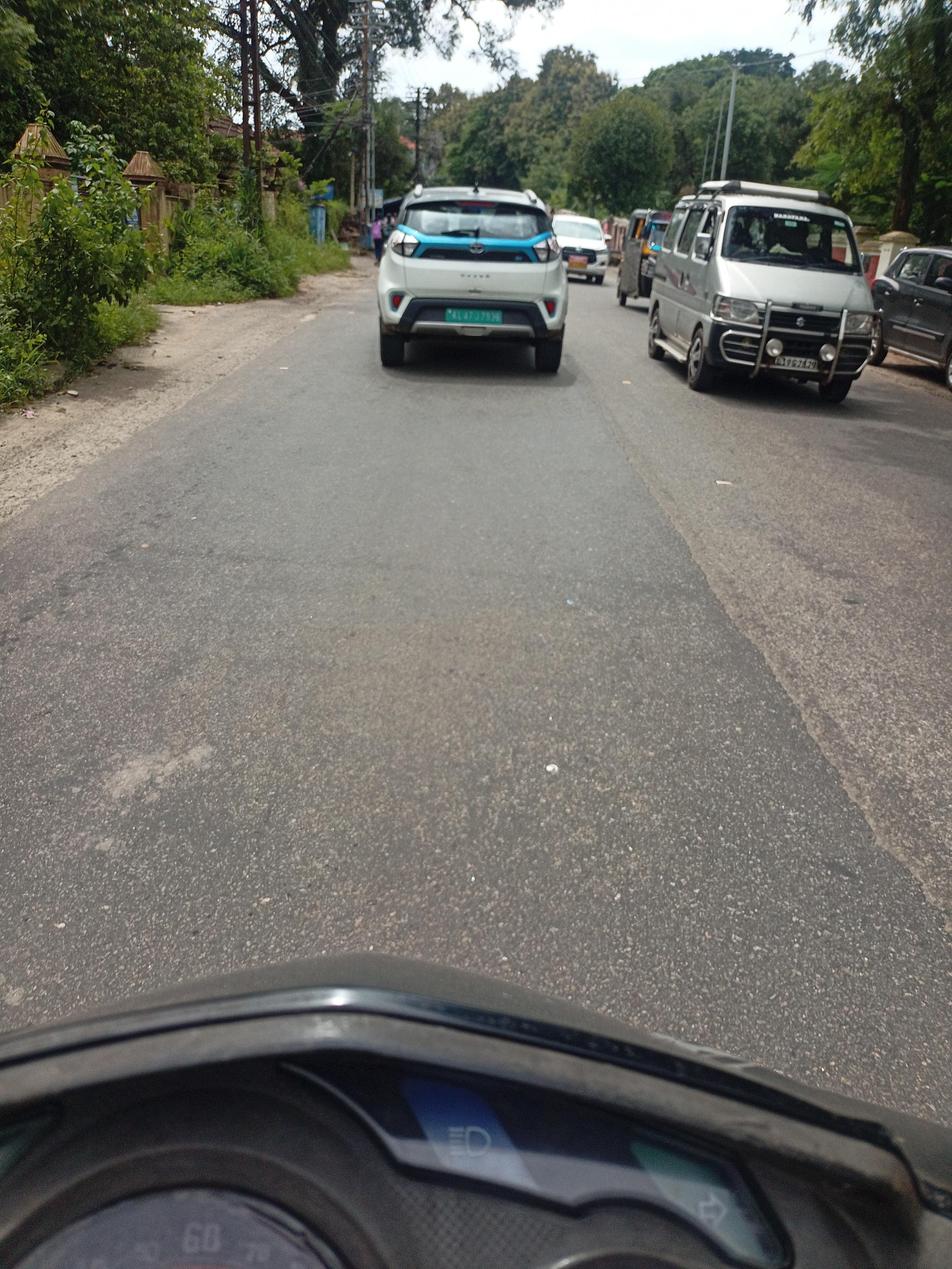green license plate: (439, 302, 510, 317)
